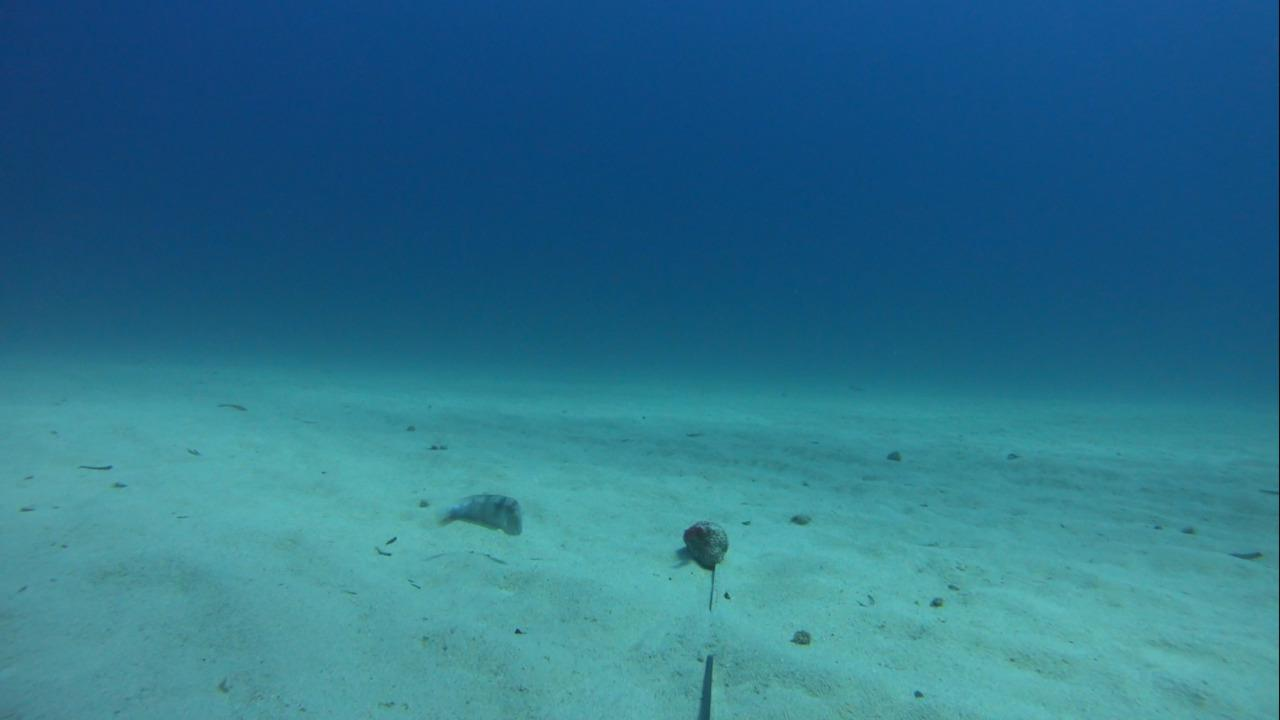raor: (433, 488, 524, 545)
